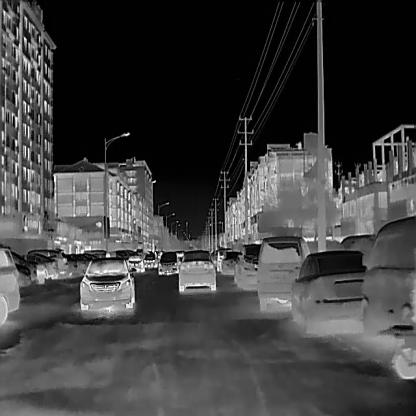car: (361, 214, 415, 344), (291, 248, 368, 330), (257, 236, 310, 310), (79, 256, 134, 309), (0, 245, 21, 324), (178, 249, 215, 292), (233, 244, 262, 284), (26, 248, 67, 276), (21, 252, 57, 277), (220, 251, 242, 275), (158, 251, 179, 275), (127, 254, 144, 272)
